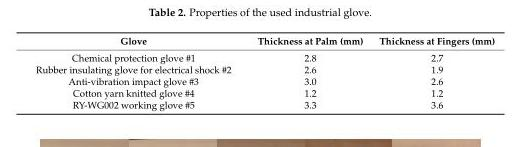table: (34, 34, 494, 110)
table column: (34, 34, 243, 110), (243, 34, 370, 110), (370, 34, 494, 110)
table column header: (34, 34, 494, 48)
table row: (34, 48, 494, 63), (34, 34, 494, 48), (34, 74, 494, 86), (34, 86, 494, 98), (34, 98, 494, 110), (34, 63, 494, 74)
